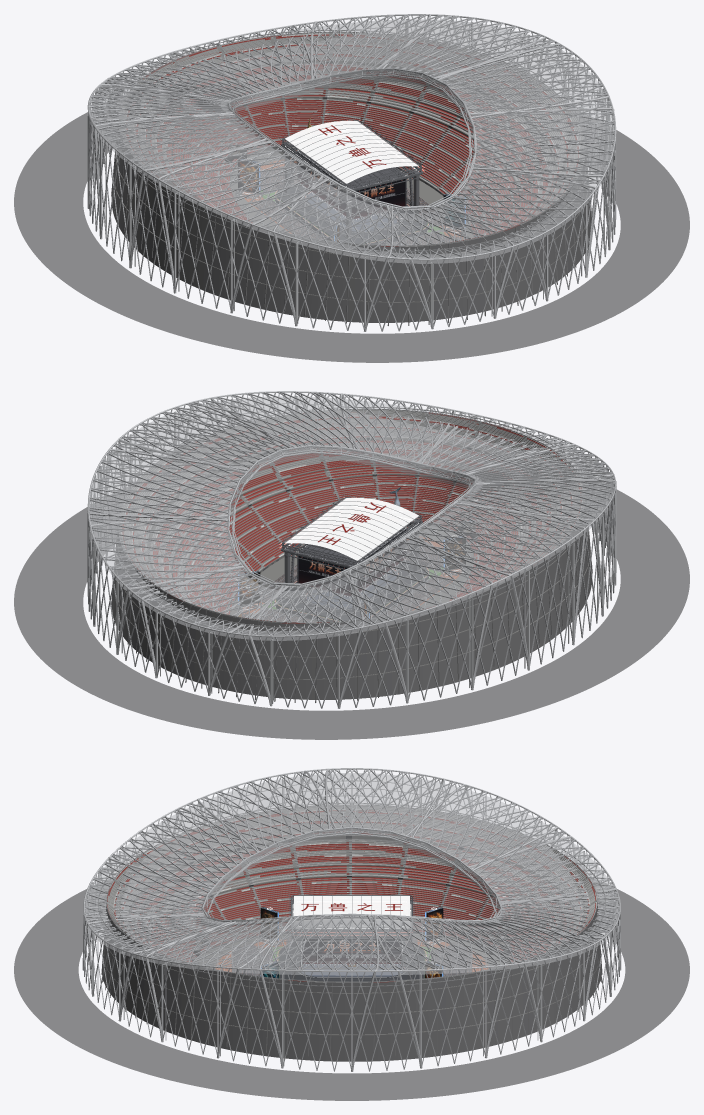
3 renders of one model, top to bottom at view 1: azimuth 30°, elevation 25°; view 2: azimuth 150°, elevation 25°; view 3: azimuth 270°, elevation 25°, orthographic. The views are drawn at different scales.
Parts seen in each view (by area): view 1: ST_Membrane_PTFE_Lower, SI_Plaza_Ring, ST_Facade_Weave, ST_Roof_Weave, BW_Bowl_OuterWall, BW_Bowl_Seats, BW_Bowl_Tiers, ST_PortalTrusses_24, TR_Membrane_Dome, ST_CompositeColumns_24, ST_Roof_RingBeams, ST_Membrane_InnerRing_Skirt (+12 smaller); view 2: ST_Membrane_PTFE_Lower, SI_Plaza_Ring, ST_Facade_Weave, ST_Roof_Weave, BW_Bowl_OuterWall, BW_Bowl_Seats, BW_Bowl_Tiers, ST_PortalTrusses_24, TR_Membrane_Dome, ST_CompositeColumns_24, ST_Roof_RingBeams, ST_Membrane_InnerRing_Skirt (+13 smaller); view 3: ST_Membrane_PTFE_Lower, SI_Plaza_Ring, BW_Bowl_OuterWall, ST_Facade_Weave, ST_Roof_Weave, BW_Bowl_Seats, BW_Bowl_Tiers, ST_PortalTrusses_24, ST_Membrane_InnerRing_Skirt, ST_CompositeColumns_24, ST_Roof_RingBeams, ST_Ceiling_Seams (+13 smaller).
Boxes of the visible parts, x1,y1,x2,y2 form: ST_Membrane_PTFE_Lower: [89, 19, 614, 263]; SI_Plaza_Ring: [14, 97, 689, 362]; ST_Facade_Weave: [88, 14, 615, 331]; ST_Roof_Weave: [89, 14, 614, 258]; BW_Bowl_OuterWall: [111, 129, 591, 322]; BW_Bowl_Seats: [119, 31, 584, 245]; BW_Bowl_Tiers: [120, 32, 584, 246]; ST_PortalTrusses_24: [87, 14, 614, 331]; TR_Membrane_Dome: [285, 120, 418, 183]; ST_CompositeColumns_24: [87, 18, 616, 329]; ST_Roof_RingBeams: [87, 14, 616, 260]; ST_Membrane_InnerRing_Skirt: [229, 70, 474, 220]; ST_Membrane_PTFE_Lower: [89, 396, 614, 640]; SI_Plaza_Ring: [14, 483, 689, 739]; ST_Facade_Weave: [88, 391, 615, 708]; ST_Roof_Weave: [89, 391, 614, 635]; BW_Bowl_OuterWall: [111, 410, 592, 699]; BW_Bowl_Seats: [119, 409, 584, 622]; BW_Bowl_Tiers: [121, 409, 583, 623]; ST_PortalTrusses_24: [87, 392, 616, 708]; TR_Membrane_Dome: [285, 497, 418, 560]; ST_CompositeColumns_24: [87, 395, 616, 707]; ST_Roof_RingBeams: [87, 391, 616, 637]; ST_Membrane_InnerRing_Skirt: [228, 447, 474, 597]; ST_Membrane_PTFE_Lower: [85, 773, 618, 975]; SI_Plaza_Ring: [14, 879, 689, 1100]; BW_Bowl_OuterWall: [101, 848, 602, 1061]; ST_Facade_Weave: [83, 768, 620, 1071]; ST_Roof_Weave: [84, 768, 619, 970]; BW_Bowl_Seats: [107, 805, 596, 981]; BW_Bowl_Tiers: [107, 805, 596, 982]; ST_PortalTrusses_24: [82, 769, 621, 1071]; ST_Membrane_InnerRing_Skirt: [203, 829, 500, 932]; ST_CompositeColumns_24: [83, 778, 620, 1069]; ST_Roof_RingBeams: [83, 768, 620, 972]; ST_Ceiling_Seams: [85, 779, 618, 974].
Size of what is drawn, in the model's own units: 407 by 77.41 by 444.
Materials: 75 (13 with a texture image).
